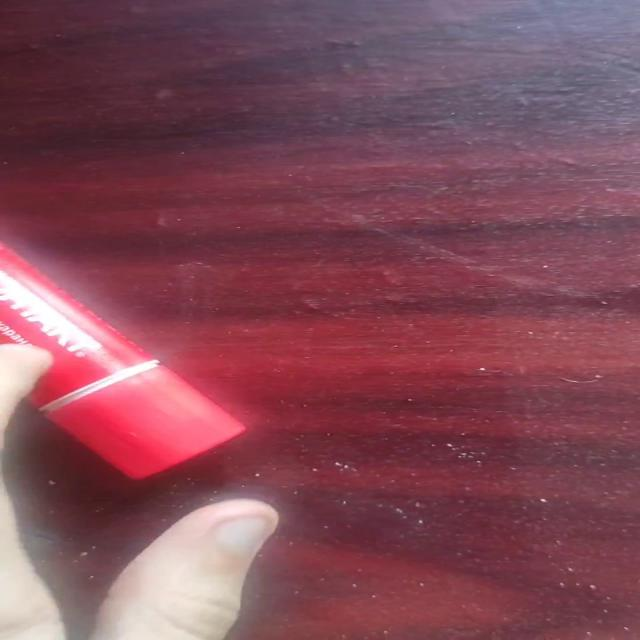glue: (0, 242, 247, 480)
